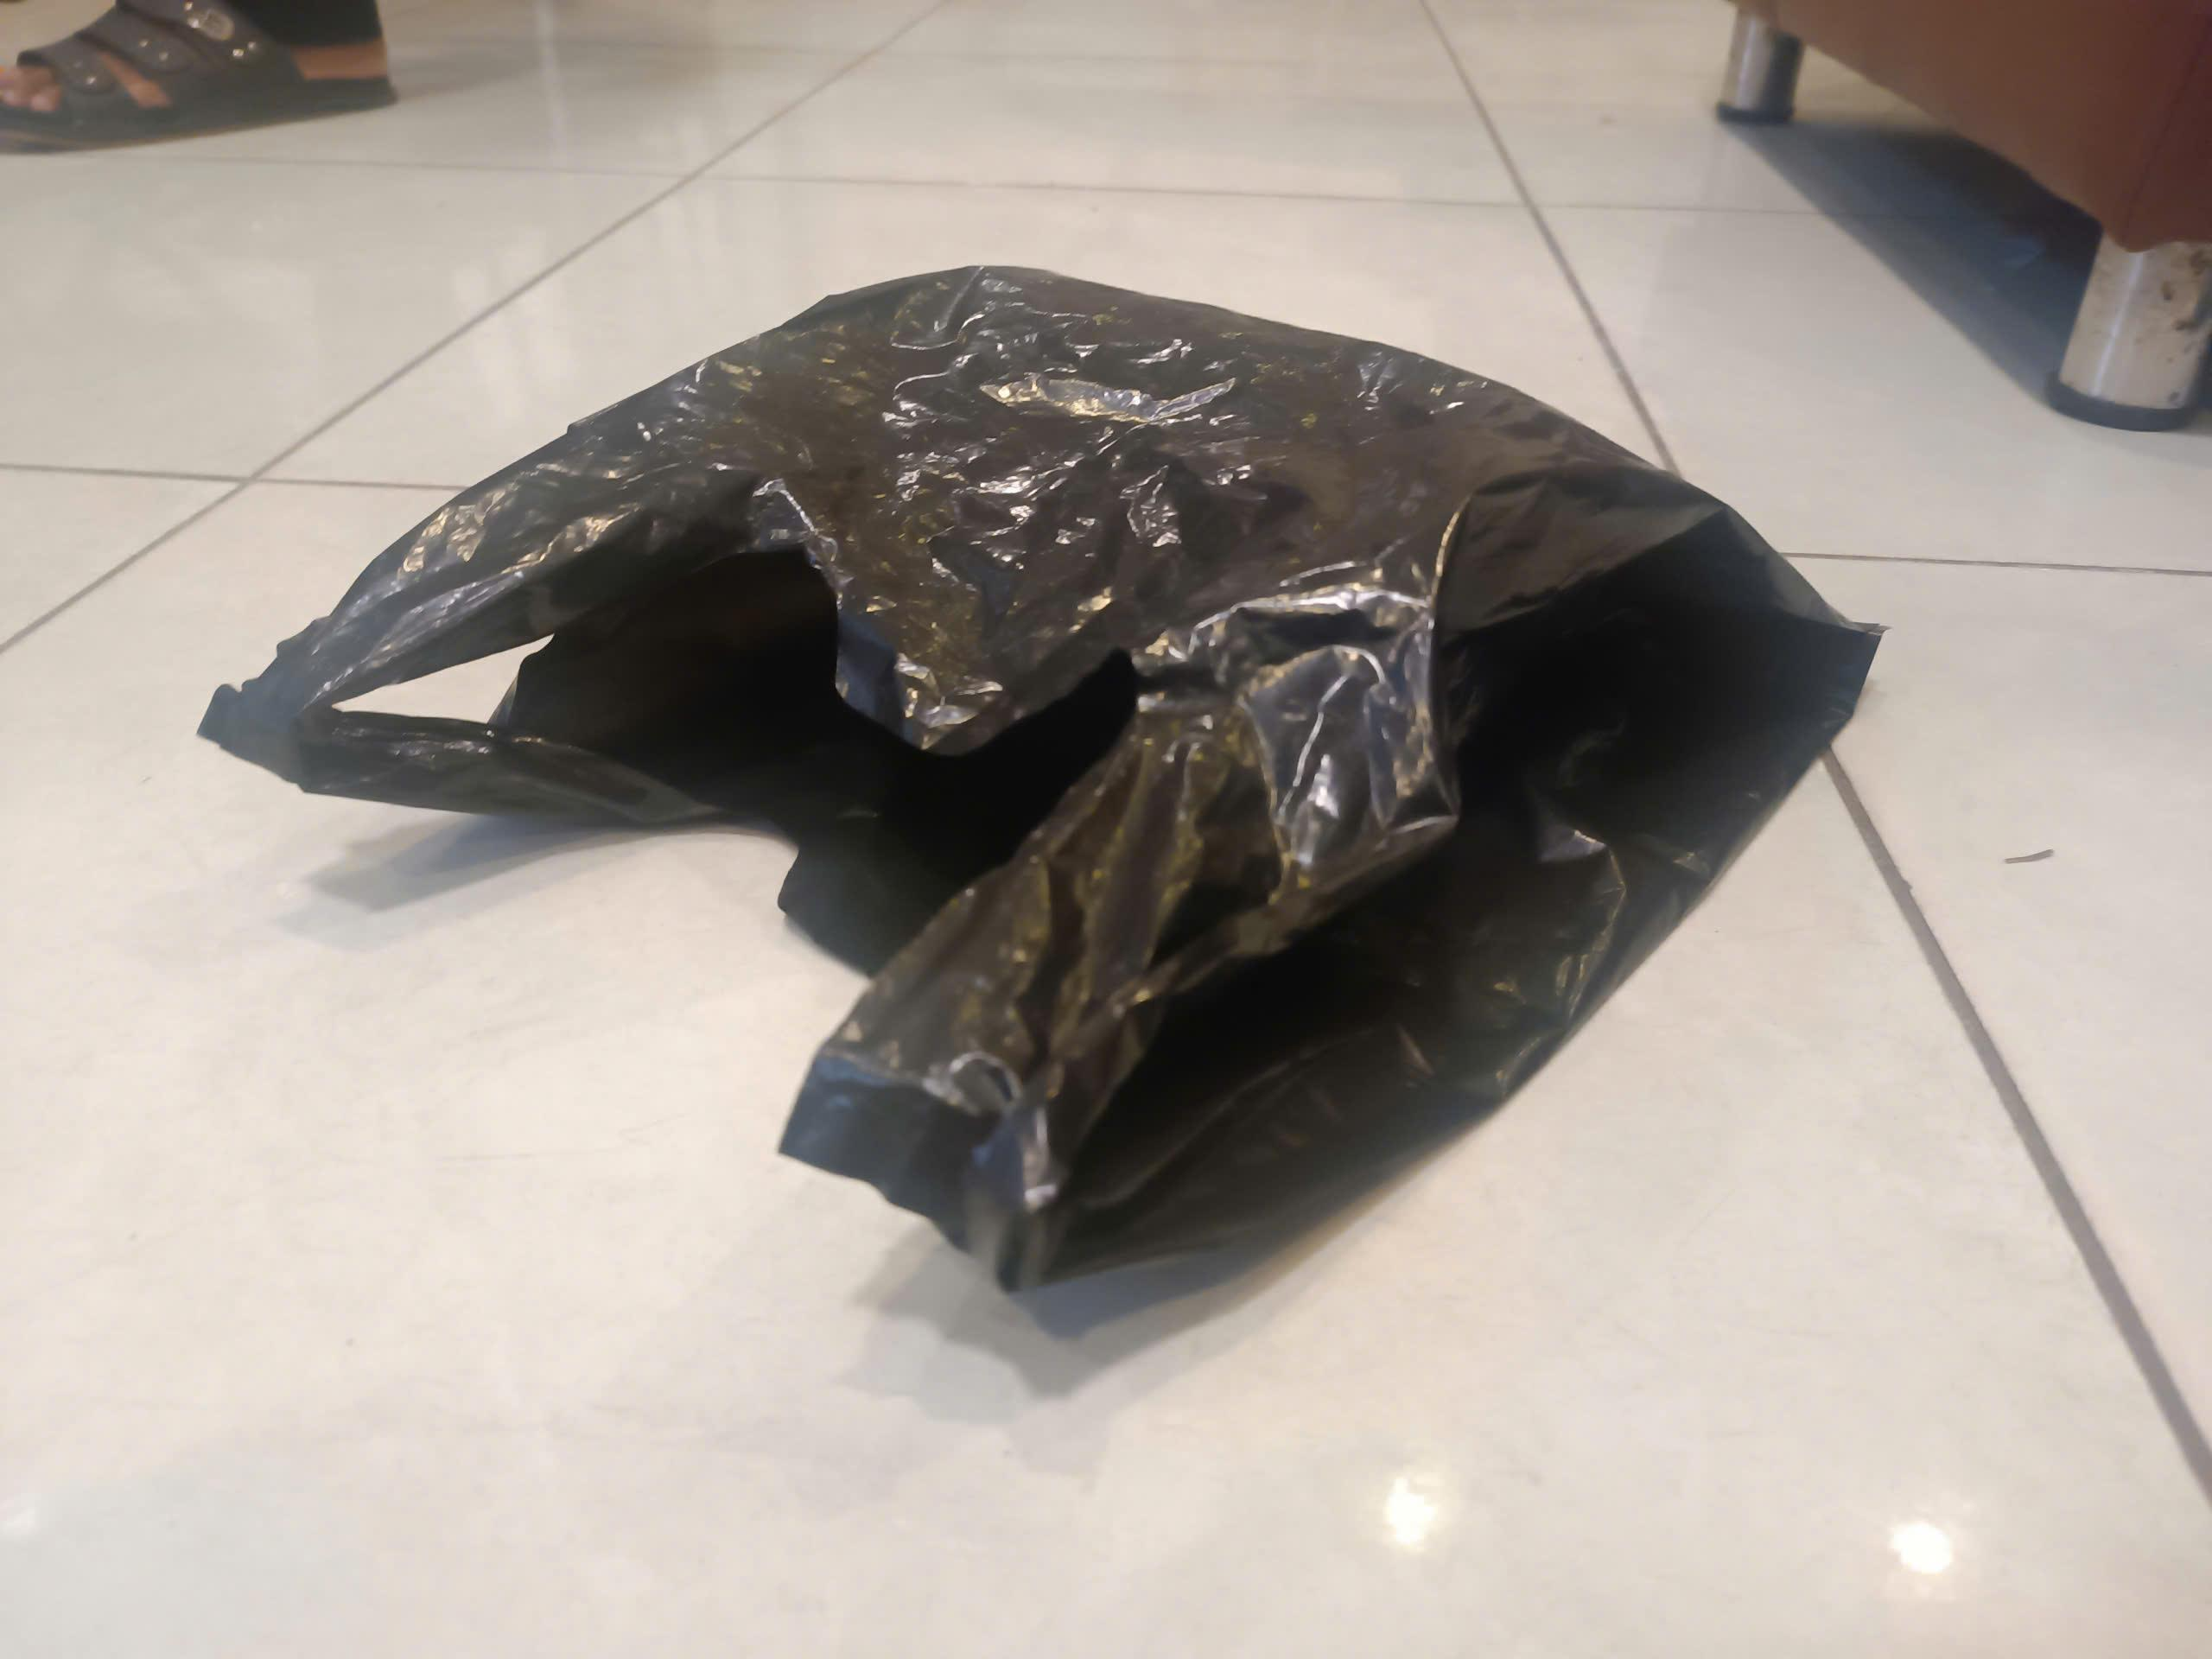Vo co: (199, 260, 1890, 1300)
